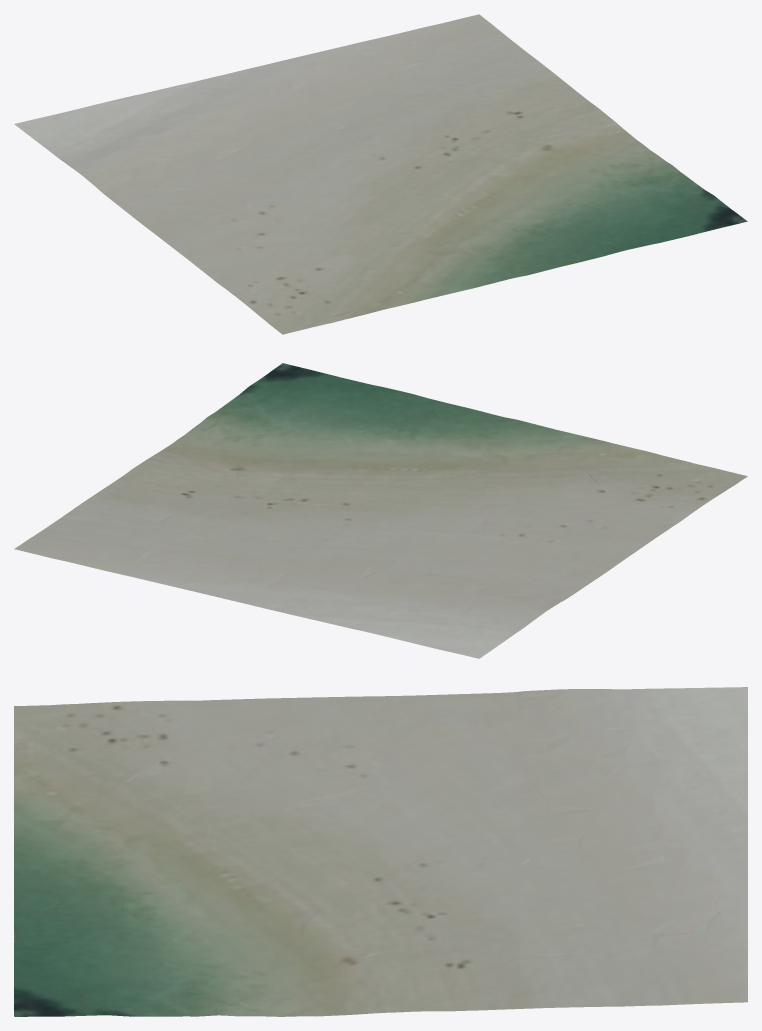
3 views of the same model, one above another, from view 1: azimuth 30°, elevation 25°; view 2: azimuth 150°, elevation 25°; view 3: azimuth 270°, elevation 25° (orthographic). The views are drawn at different scales.
Size of the model in its own units: 104 by 3.12 by 104.
2 materials, 2 textured.
